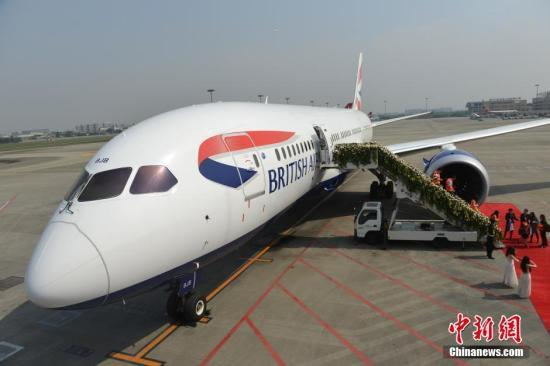airplane: (17, 62, 550, 324)
